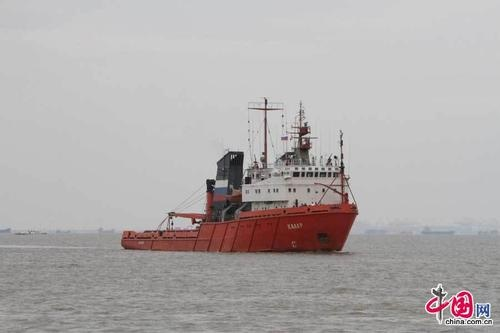otherboat: (118, 98, 369, 251)
